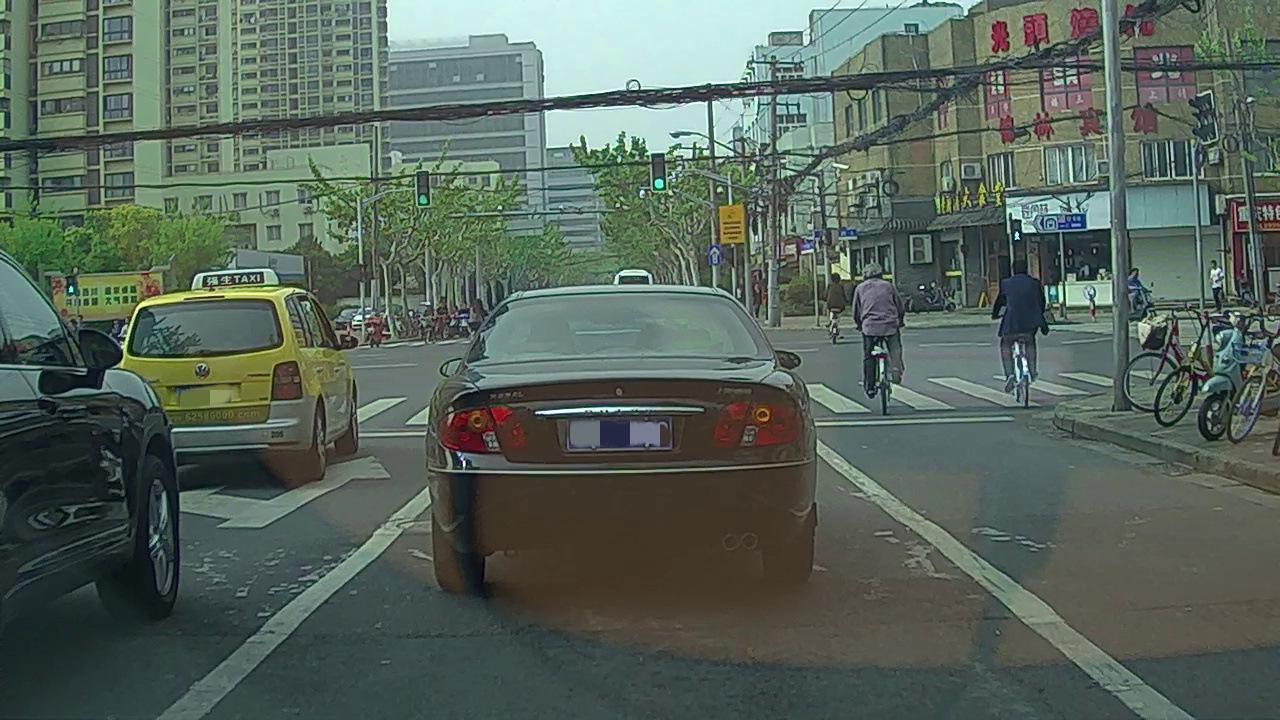traffic_light: (651, 153, 667, 191), (417, 171, 431, 207)
